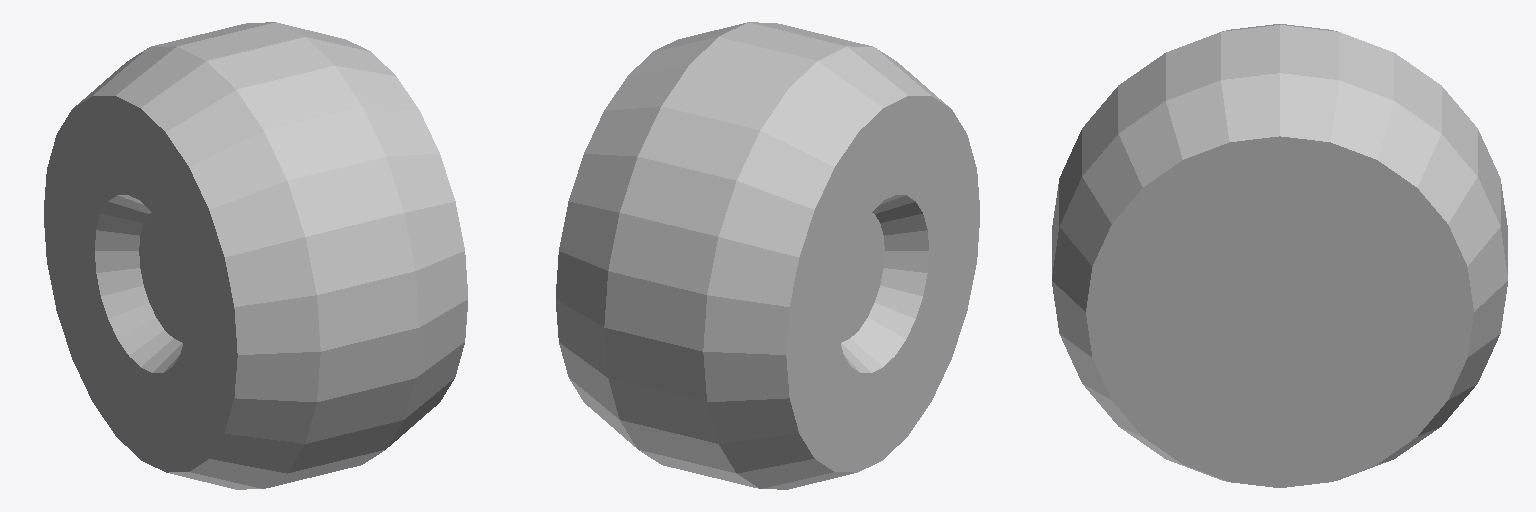
The model's file is llanta_hatchback_sport.obj.
3 renders of one model, left to right at view 1: azimuth 30°, elevation 25°; view 2: azimuth 150°, elevation 25°; view 3: azimuth 270°, elevation 25°, orthographic.
Visible parts, largest first — view 1: hatchback-sports.001; view 2: hatchback-sports.001; view 3: hatchback-sports.001.
Part boxes in pixels (bbox=[...]): hatchback-sports.001: bbox=[44, 22, 467, 489]; hatchback-sports.001: bbox=[556, 22, 979, 489]; hatchback-sports.001: bbox=[1052, 24, 1507, 487].
Size of the model in its own units: 0.35 by 0.6 by 0.6.